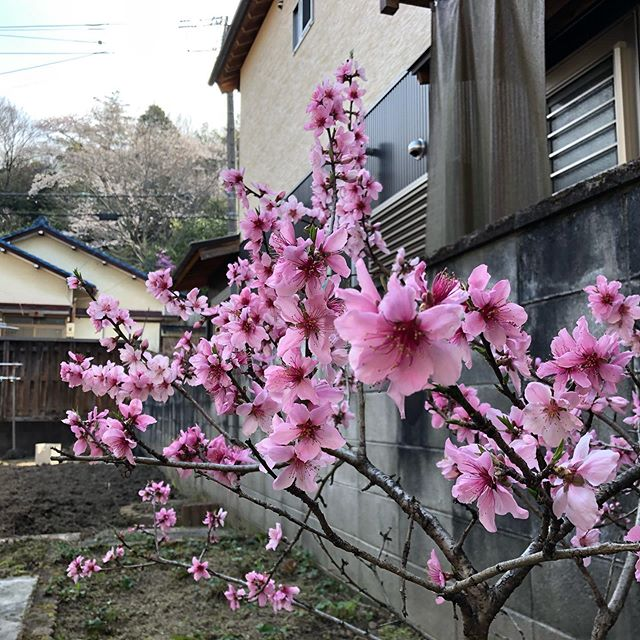building: (234, 1, 640, 458), (1, 218, 186, 465)
flowers: (72, 86, 640, 640)
vegetation: (1, 117, 218, 258)
